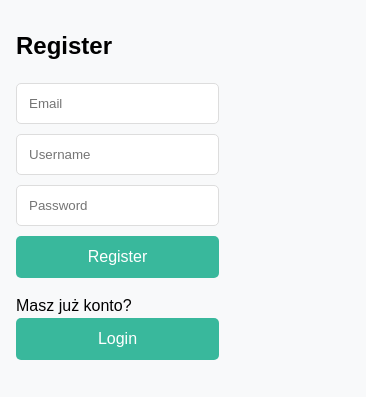
Register Component › displays an error message on API failure
In the field with placeholder "Email": [118, 104] box [16,83,219,124], type "test@example.com"
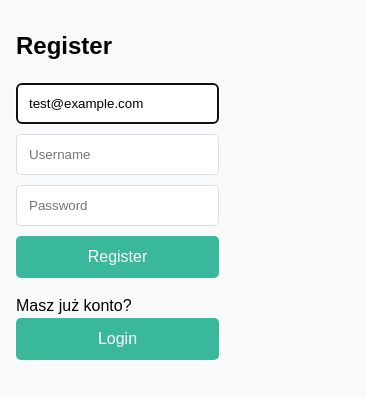
In the field with placeholder "Username": [118, 155] box [16,134,219,175], type "testuser"
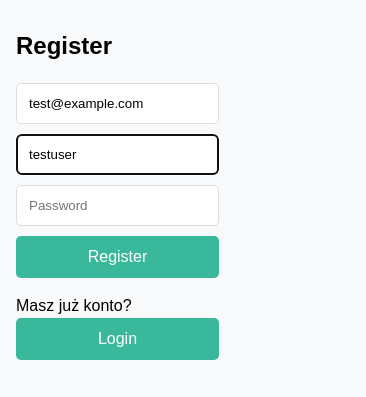
In the password field with placeholder "Password": [118, 206] box [16,185,219,226], type "password123"
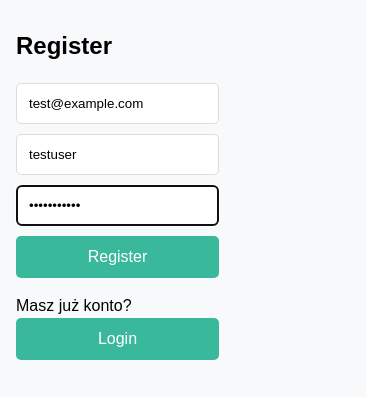
Click the button "Register": [118, 257] box [16,236,219,278]
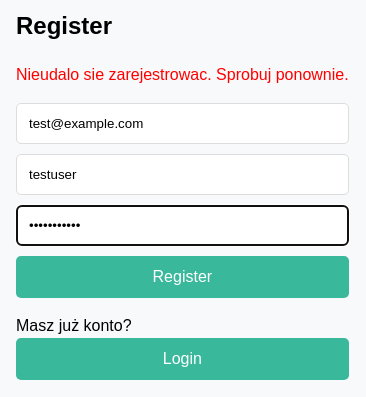
Now the text "Nieudalo sie zarejestrowac. Sprobuj ponownie." is shown, box [16,63,349,87]
